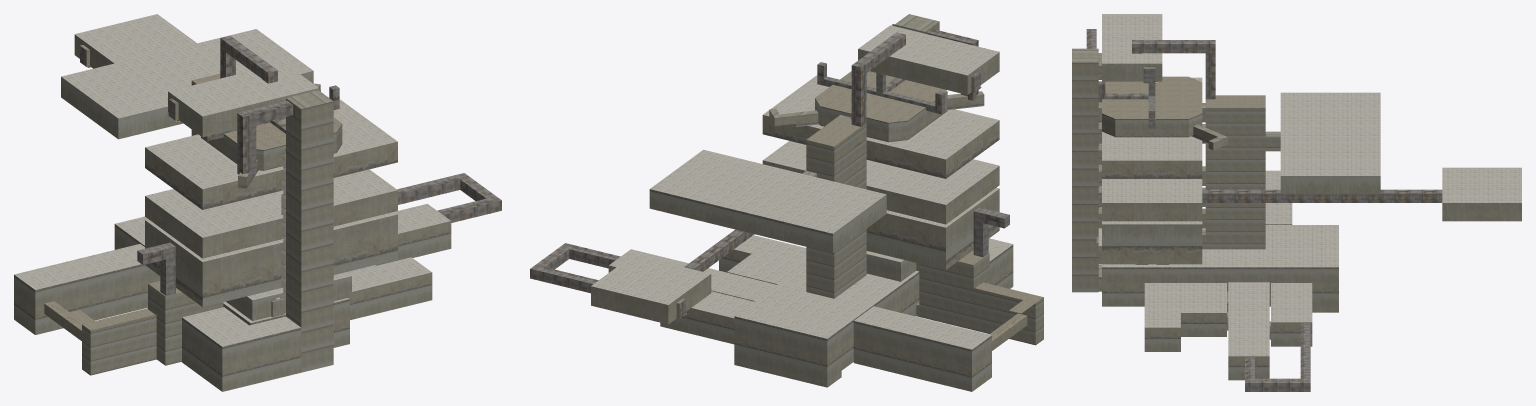
The model's file is map_interior.glb.
3 views of the same model, side by side, from view 1: azimuth 30°, elevation 25°; view 2: azimuth 150°, elevation 25°; view 3: azimuth 270°, elevation 25° (orthographic). The views are drawn at different scales.
Visible parts, largest first — view 1: Paredes_4, Techo1_1, Tueneles_0, Techo0_2; view 2: Paredes_4, Techo1_1, Tueneles_0, Techo0_2; view 3: Paredes_4, Techo1_1, Tueneles_0, Techo0_2.
Part boxes in pixels (x1,y1,x2,y2): Paredes_4: (14, 34, 451, 391); Techo1_1: (14, 14, 450, 346); Tueneles_0: (80, 35, 501, 295); Techo0_2: (67, 73, 341, 330); Paredes_4: (591, 14, 1043, 391); Techo1_1: (591, 25, 1012, 349); Tueneles_0: (530, 29, 1009, 318); Techo0_2: (806, 71, 1043, 313); Paredes_4: (1072, 48, 1521, 380); Techo1_1: (1098, 14, 1521, 356); Tueneles_0: (1086, 29, 1442, 391); Techo0_2: (1102, 76, 1265, 118).
Size of the model in its own units: 69.56 by 40.55 by 67.41.
Materials: 6 (6 with a texture image).
